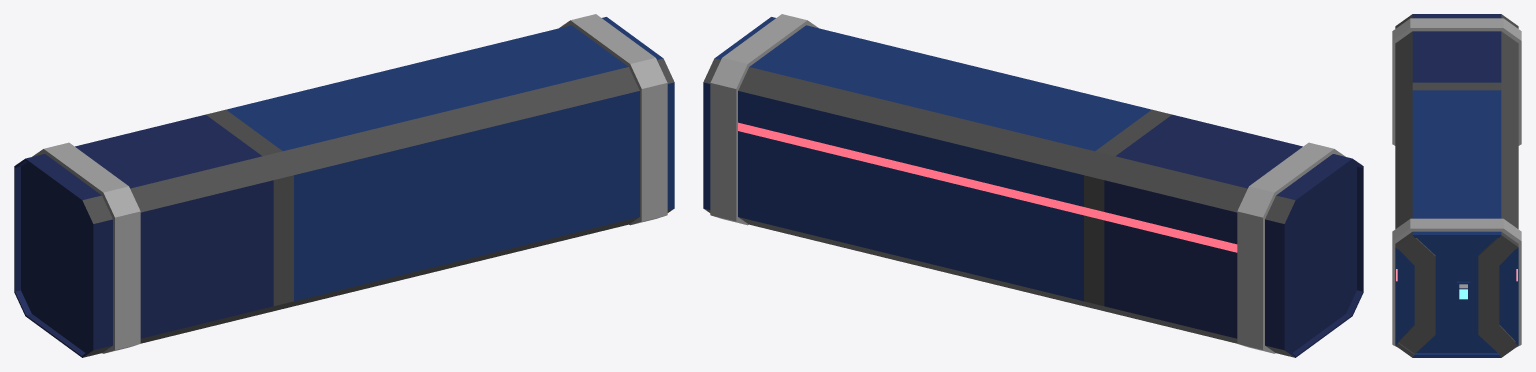
File: Long Blue Container.fbx
3 views of the same model, side by side, from view 1: azimuth 30°, elevation 25°; view 2: azimuth 150°, elevation 25°; view 3: azimuth 270°, elevation 25° (orthographic). The views are drawn at different scales.
Visible parts, largest first — view 1: Cube.002; view 2: Cube.002; view 3: Cube.002.
Boxes of the visible parts, <box> form: Cube.002: <box>14,14,674,357</box>; Cube.002: <box>703,14,1363,357</box>; Cube.002: <box>1392,14,1521,357</box>.
Size of the model in its own units: 1035 by 275 by 256.
